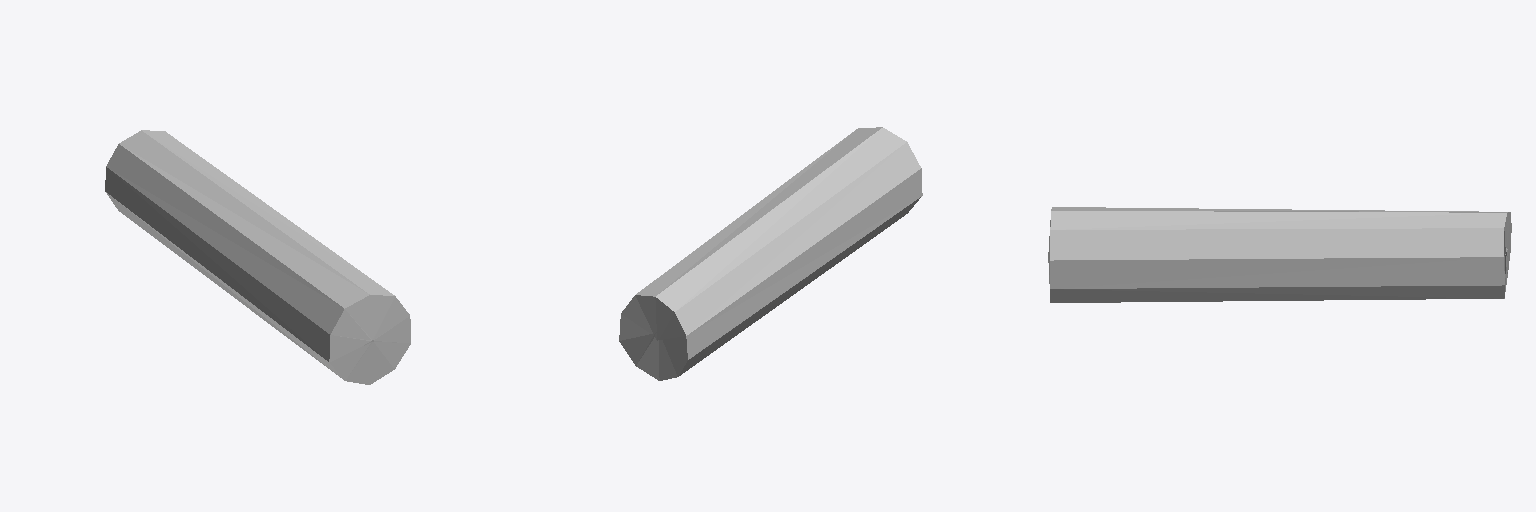
Rendered from TreeTrunk2-90.obj.
3 views of the same model, side by side, from view 1: azimuth 30°, elevation 25°; view 2: azimuth 150°, elevation 25°; view 3: azimuth 270°, elevation 25° (orthographic).
Parts seen in each view (by area): view 1: Tree; view 2: Tree; view 3: Tree.
Boxes of the visible parts, x1,y1,x2,y2 form: Tree: [105, 130, 410, 384]; Tree: [619, 127, 922, 380]; Tree: [1048, 207, 1511, 302].
Bounding box in the file's own units: 0.3293 × 0.3487 × 1.63.